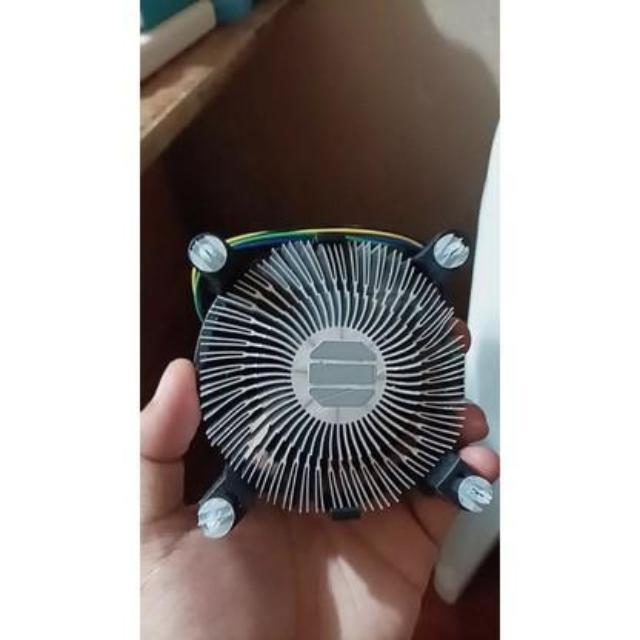CPU_Fan: (180, 228, 494, 524)
